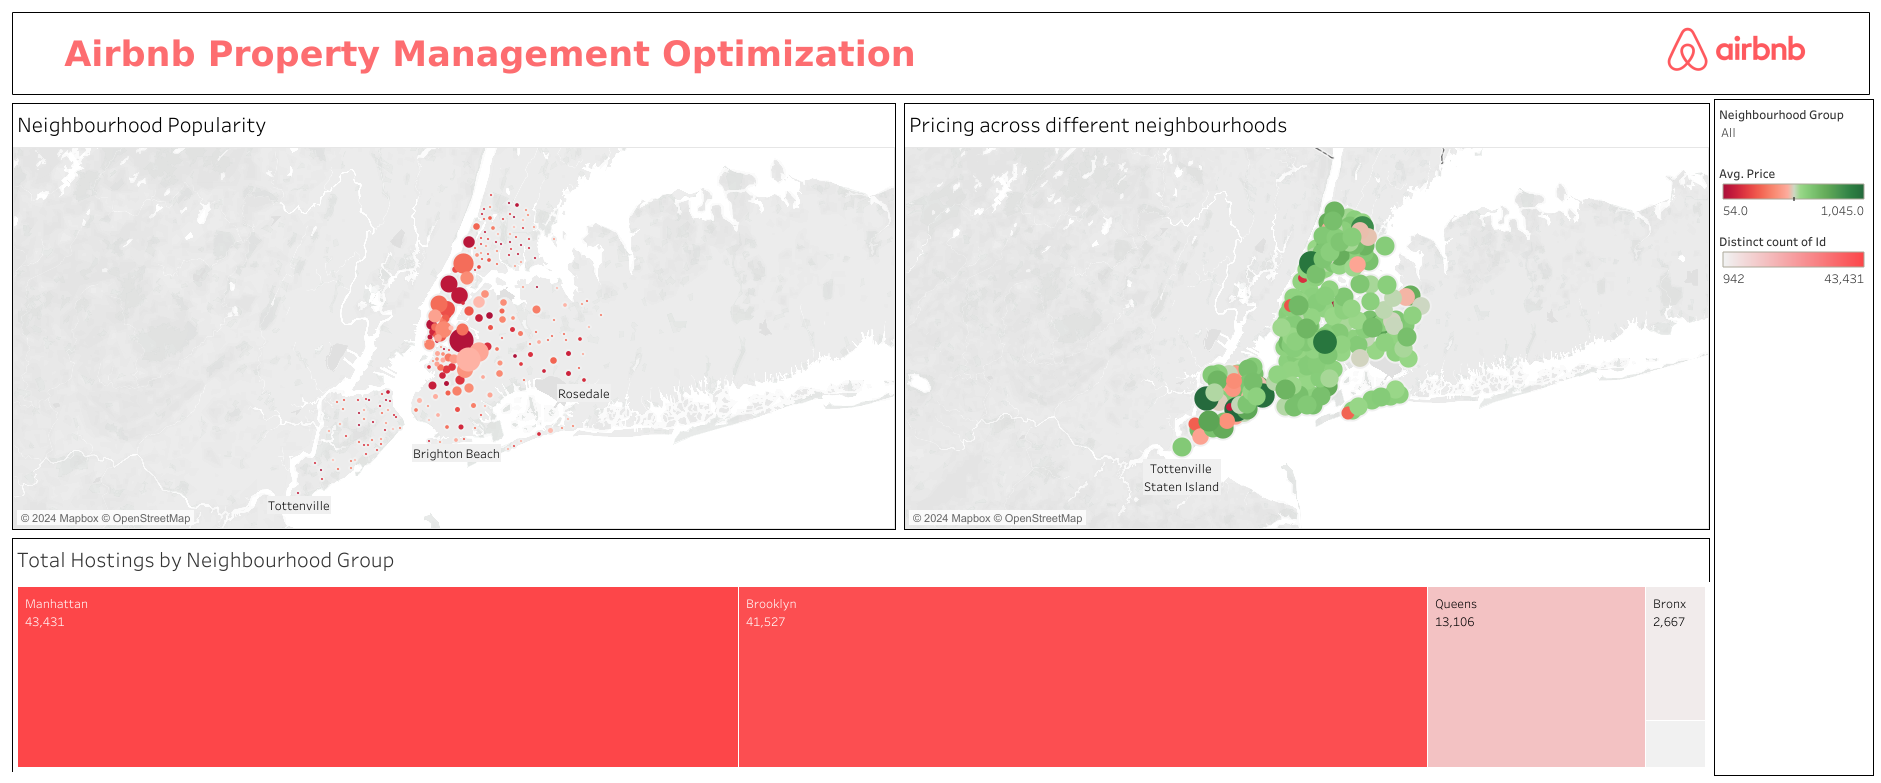

What the dashboard file says about the page in this screenshot:
{"tool":"tableau","page":{"name":"Dashboard 1","canvas":[1000,1000],"units":"permille","ordinal":0},"visuals":[{"type":"image","param":"E:/Data_Analytics/WsCube/Projects/AirBnb/images/logo.png","box":[879.9,4.9,115.3,115.9]},{"type":"text","box":[4.2,9.9,991.5,115.9]},{"type":"worksheet","title":"Sheet 1","mark":"Automatic","rows":["lat"],"cols":["long"],"box":[4.2,125.8,473.9,554.9]},{"type":"worksheet","title":"Sheet 1 (2)","mark":"Automatic","rows":["lat"],"cols":["long"],"box":[478.1,125.8,432.9,554.9]},{"type":"filter","title":"Sheet 1","param":"[federated.0o5vly91xbzcxx1f0rav40z5rqm1].[none:neighbourhood group:nk]","box":[911.5,127,83.7,75.2]},{"type":"legend","title":"Sheet 1 (2)","param":"[federated.0o5vly91xbzcxx1f0rav40z5rqm1].[avg:price:qk]","box":[911.5,202.2,83.7,90]},{"type":"legend","title":"Sheet 19","param":"[federated.0o5vly91xbzcxx1f0rav40z5rqm1].[ctd:id:qk]","box":[911.5,292.2,83.7,90]},{"type":"worksheet","title":"Sheet 19","mark":"Automatic","box":[4.2,680.6,906.8,309.5]}]}

Visuals, with their boxes on the dashboard's canvas, which has no fixed pixel size, in thousandths of its width and height (x1, y1, x2, y2). These are canvas units, not pixel positions in the 1881x783 screenshot, which may show the page scaled, cropped or inside an application window:
image: pyautogui.locateOnScreen(880, 5, 995, 121)
text: pyautogui.locateOnScreen(4, 10, 996, 126)
"Sheet 1" worksheet: pyautogui.locateOnScreen(4, 126, 478, 681)
"Sheet 1 (2)" worksheet: pyautogui.locateOnScreen(478, 126, 911, 681)
"Sheet 1" filter: pyautogui.locateOnScreen(912, 127, 995, 202)
"Sheet 1 (2)" legend: pyautogui.locateOnScreen(912, 202, 995, 292)
"Sheet 19" legend: pyautogui.locateOnScreen(912, 292, 995, 382)
"Sheet 19" worksheet: pyautogui.locateOnScreen(4, 681, 911, 990)
